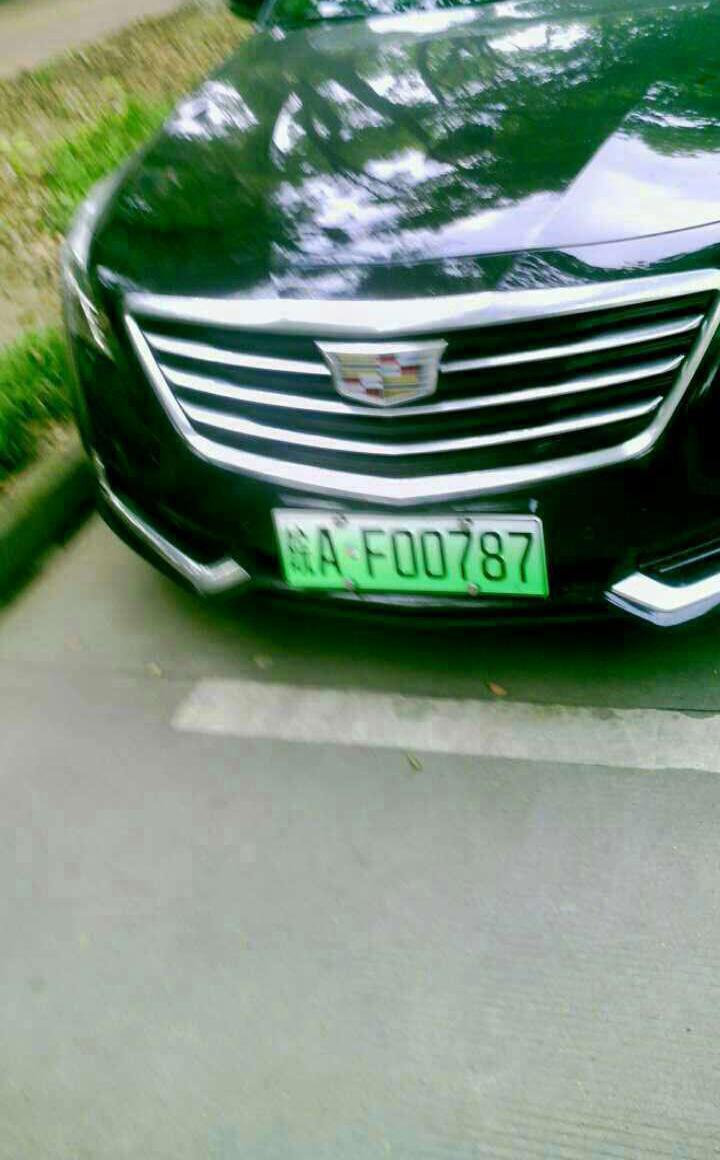car: (271, 504, 559, 606)
